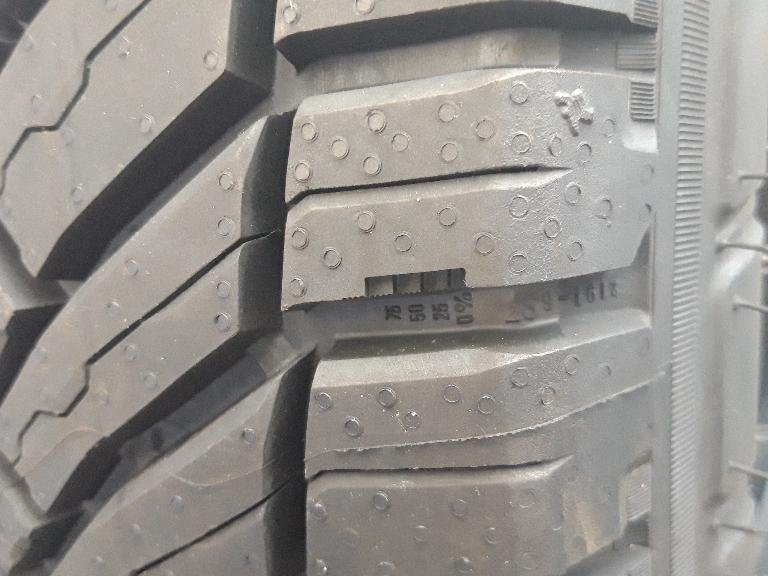temoin:100: (340, 266, 470, 303)
